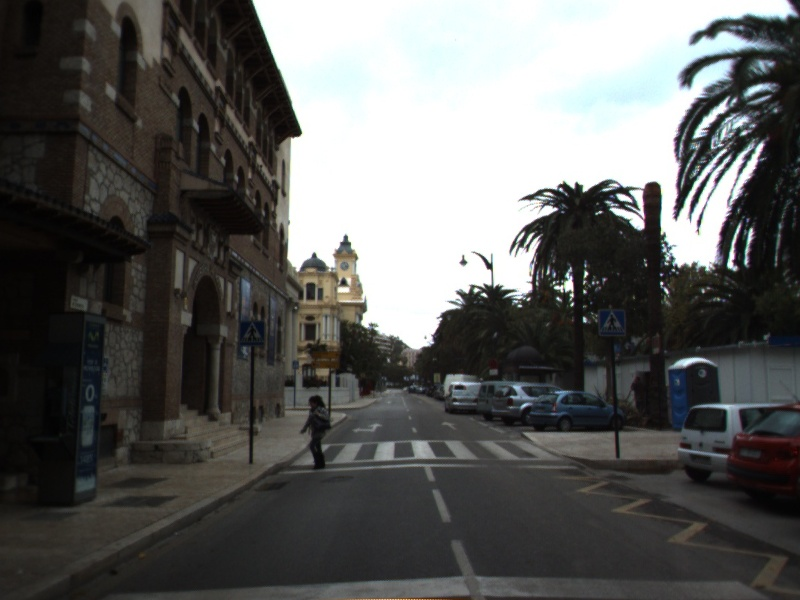STRAIGHT: (439, 419, 459, 432)
STRAIGHT_LEFT: (350, 421, 385, 435)
